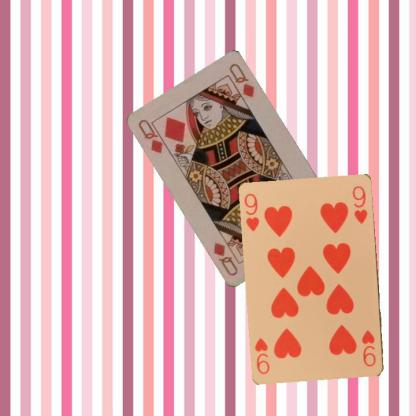9h: (242, 191, 261, 233), (360, 327, 378, 368)
Qd: (136, 117, 172, 155)
